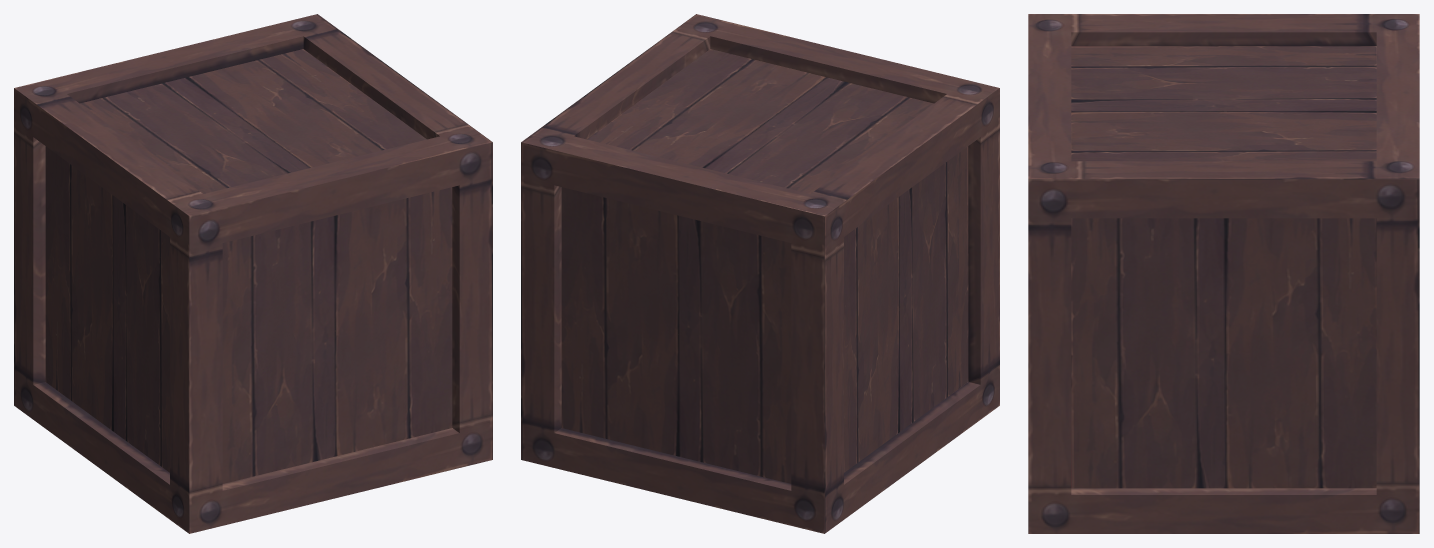
The picture shows the model from 3 angles, left to right: view 1: azimuth 30°, elevation 25°; view 2: azimuth 150°, elevation 25°; view 3: azimuth 270°, elevation 25°; orthographic projection. The views are drawn at different scales.
Visible parts, largest first — view 1: Box031; view 2: Box031; view 3: Box031.
Part boxes in pixels (<box>): Box031: <box>14,14,492,533</box>; Box031: <box>521,14,999,533</box>; Box031: <box>1028,14,1419,533</box>.
Size of the model in its own units: 2 by 2 by 2.
Materials: 1 (1 with a texture image).
